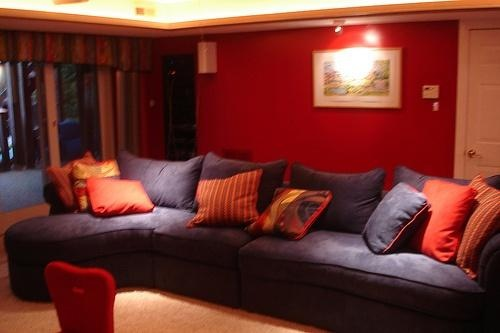sofa: (5, 153, 500, 333)
